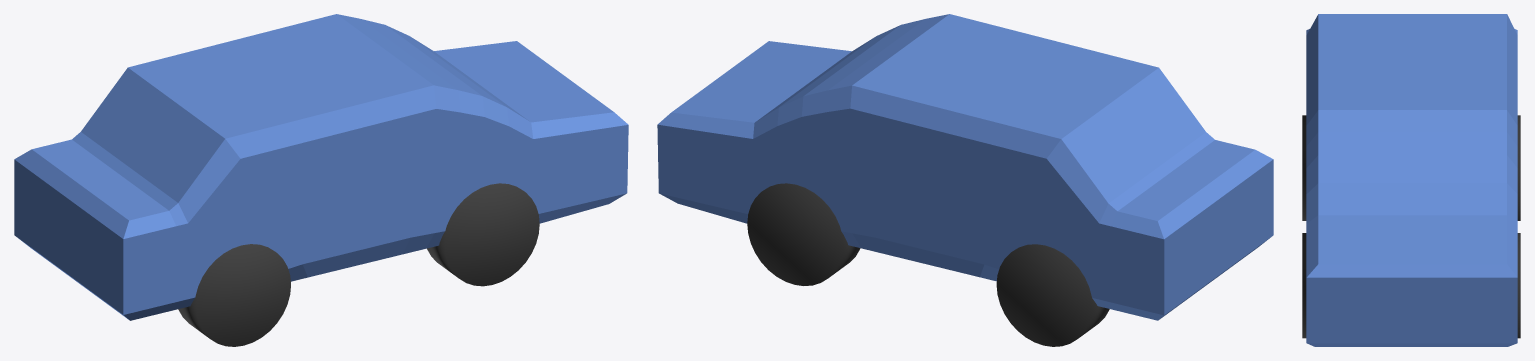
The model's file is blue car.fbx.
3 views of the same model, side by side, from view 1: azimuth 30°, elevation 25°; view 2: azimuth 150°, elevation 25°; view 3: azimuth 270°, elevation 25° (orthographic). The views are drawn at different scales.
Parts seen in each view (by area): view 1: Cube, Cylinder.001, Cylinder.002; view 2: Cube, Cylinder, Cylinder.003; view 3: Cube, Cylinder.002, Cylinder.001, Cylinder.003, Cylinder.
Part boxes in pixels (x1=…): Cube: x1=14, y1=14, x2=628, y2=320; Cylinder.001: x1=427, y1=183, x2=539, y2=286; Cylinder.002: x1=178, y1=244, x2=290, y2=346; Cube: x1=657, y1=14, x2=1273, y2=320; Cylinder: x1=747, y1=183, x2=860, y2=285; Cylinder.003: x1=996, y1=244, x2=1109, y2=346; Cube: x1=1306, y1=14, x2=1517, y2=346; Cylinder.002: x1=1302, y1=115, x2=1306, y2=220; Cylinder.001: x1=1302, y1=233, x2=1306, y2=338; Cylinder.003: x1=1517, y1=115, x2=1520, y2=220; Cylinder: x1=1517, y1=233, x2=1520, y2=338.
Size of the model in its own units: 1070 by 417 by 413.
